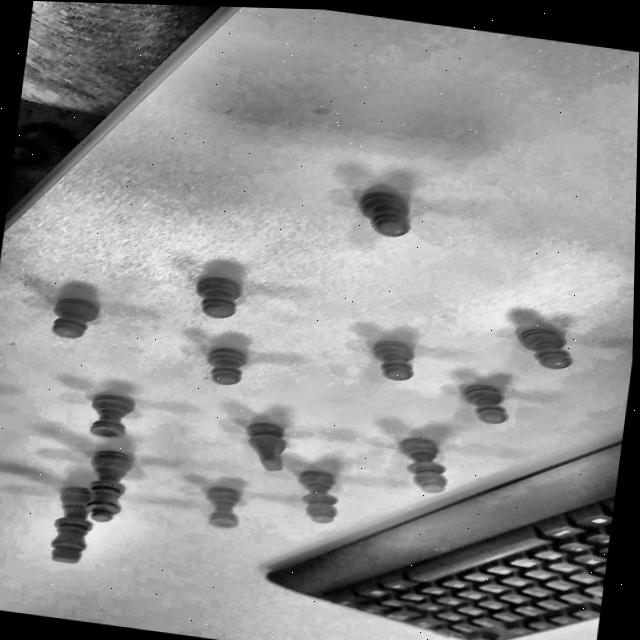white-bishop: (394, 435, 451, 494), (294, 468, 341, 523)
white-king: (46, 484, 95, 567)
white-knight: (241, 419, 287, 471)
white-pawn: (349, 175, 427, 249), (514, 323, 575, 370), (48, 294, 97, 342), (458, 381, 510, 426), (192, 273, 241, 318), (367, 337, 414, 381), (203, 345, 246, 387)
white-queen: (82, 447, 133, 523)
white-rook: (86, 390, 133, 440), (201, 485, 240, 529)
